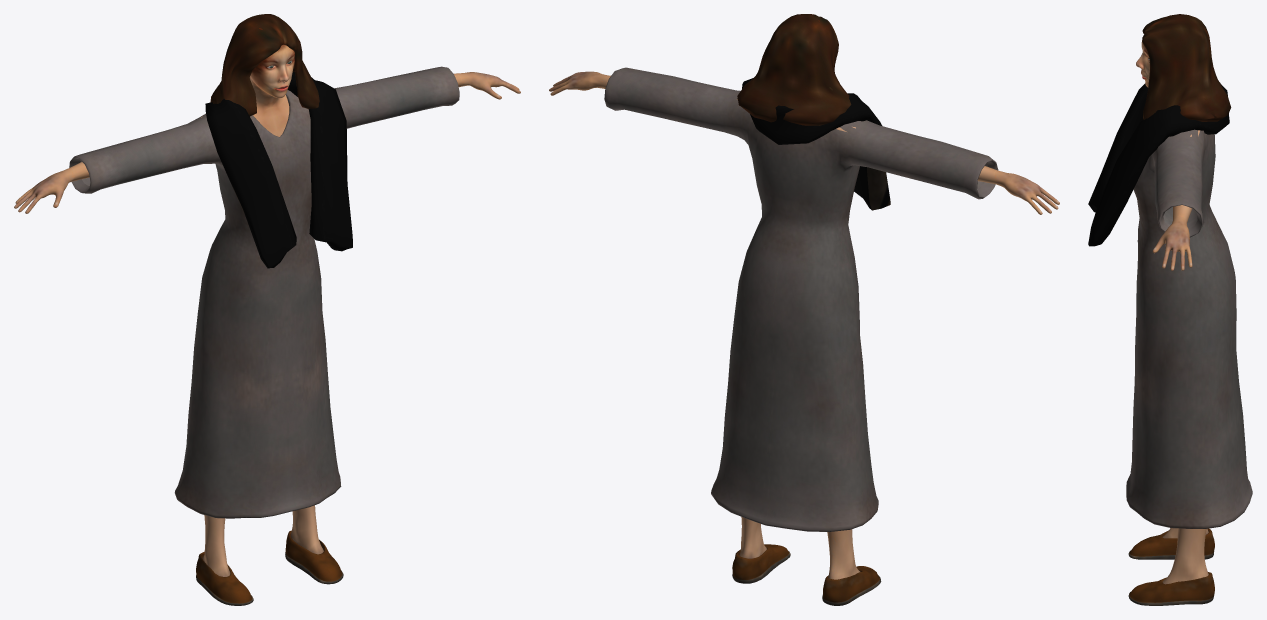
File: mom.fbx
3 renders of one model, left to right at view 1: azimuth 30°, elevation 25°; view 2: azimuth 150°, elevation 25°; view 3: azimuth 270°, elevation 25°, orthographic.
Parts seen in each view (by area): view 1: mom_scarf, mom_body, mom_hair, mom_shoes; view 2: mom_scarf, mom_hair, mom_body, mom_shoes; view 3: mom_scarf, mom_hair, mom_body, mom_shoes.
Part boxes in pixels (x1,y1,x2,y2): mom_scarf: (69, 66, 459, 518); mom_body: (14, 28, 520, 576); mom_hair: (210, 14, 319, 116); mom_shoes: (196, 530, 343, 605); mom_scarf: (604, 67, 998, 531); mom_hair: (737, 14, 851, 125); mom_body: (549, 20, 1059, 579); mom_shoes: (732, 544, 881, 605); mom_scarf: (1088, 83, 1252, 528); mom_hair: (1142, 14, 1231, 121); mom_body: (1136, 40, 1208, 584); mom_shoes: (1128, 528, 1214, 605).
Size of the model in its own units: 163 by 175 by 46.5.
Materials: 5 (5 with a texture image).
